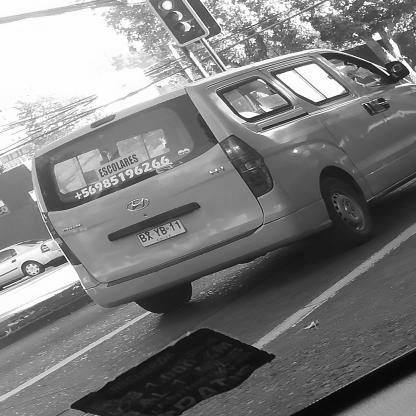Patente: (137, 215, 187, 249)
